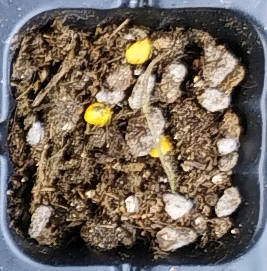chilli seed: (124, 35, 154, 65), (82, 102, 113, 129), (146, 132, 172, 159)
